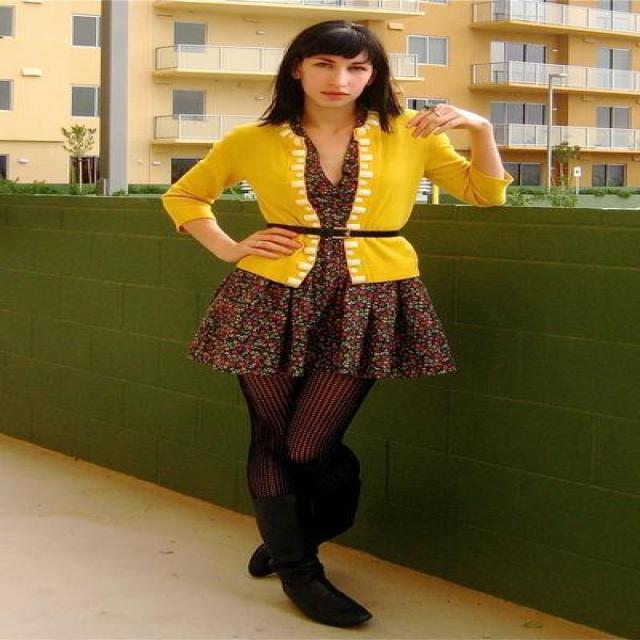dress: (189, 141, 454, 385)
jacket: (160, 115, 507, 286)
shoe: (242, 468, 371, 630)
